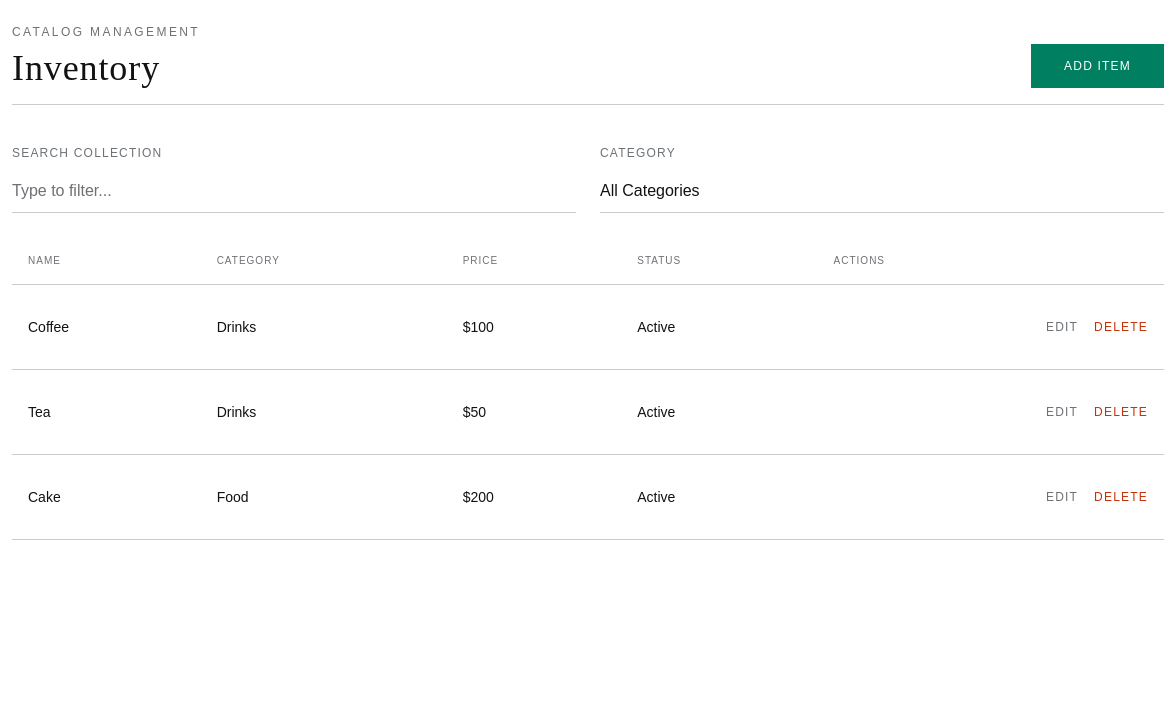
Test: ProductsPage › filters products by category
Step 1. Select "Food" in the dropdown labelled "Category" → (882,191), box [600,169,1164,213]
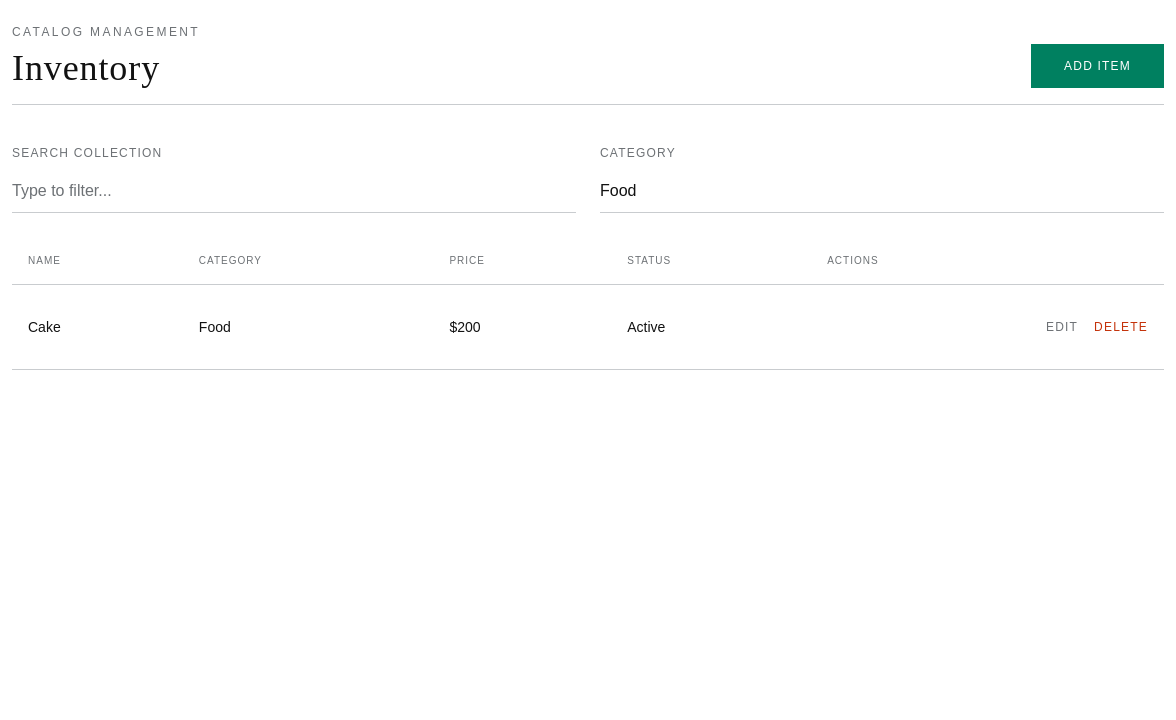
Expected: the text "Cake" is shown, [12,284,183,370]
Expected: the text "Coffee" is gone
